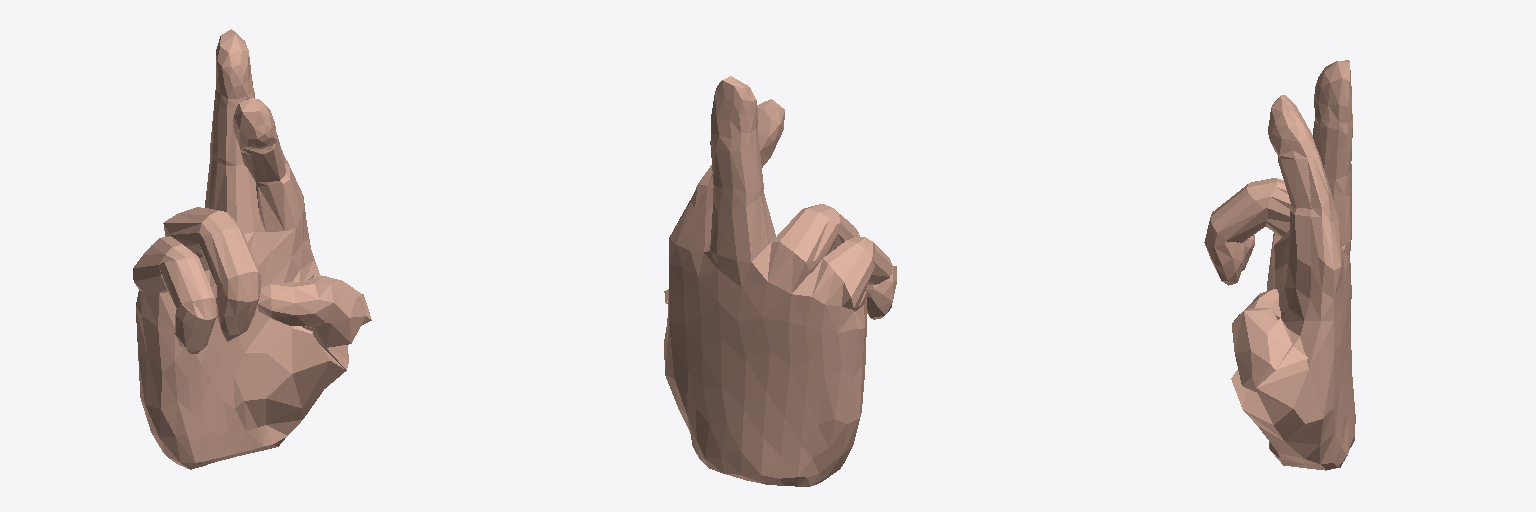
The model's file is MAO_R.obj.
3 renders of one model, left to right at view 1: azimuth 30°, elevation 25°; view 2: azimuth 150°, elevation 25°; view 3: azimuth 270°, elevation 25°, orthographic.
Parts seen in each view (by area): view 1: mao_dir:mao_dir; view 2: mao_dir:mao_dir; view 3: mao_dir:mao_dir.
Part boxes in pixels (bbox=[...]): mao_dir:mao_dir: bbox=[133, 29, 371, 469]; mao_dir:mao_dir: bbox=[664, 76, 896, 486]; mao_dir:mao_dir: bbox=[1204, 60, 1355, 470].
Size of the model in its own units: 135 by 243 by 83.68.